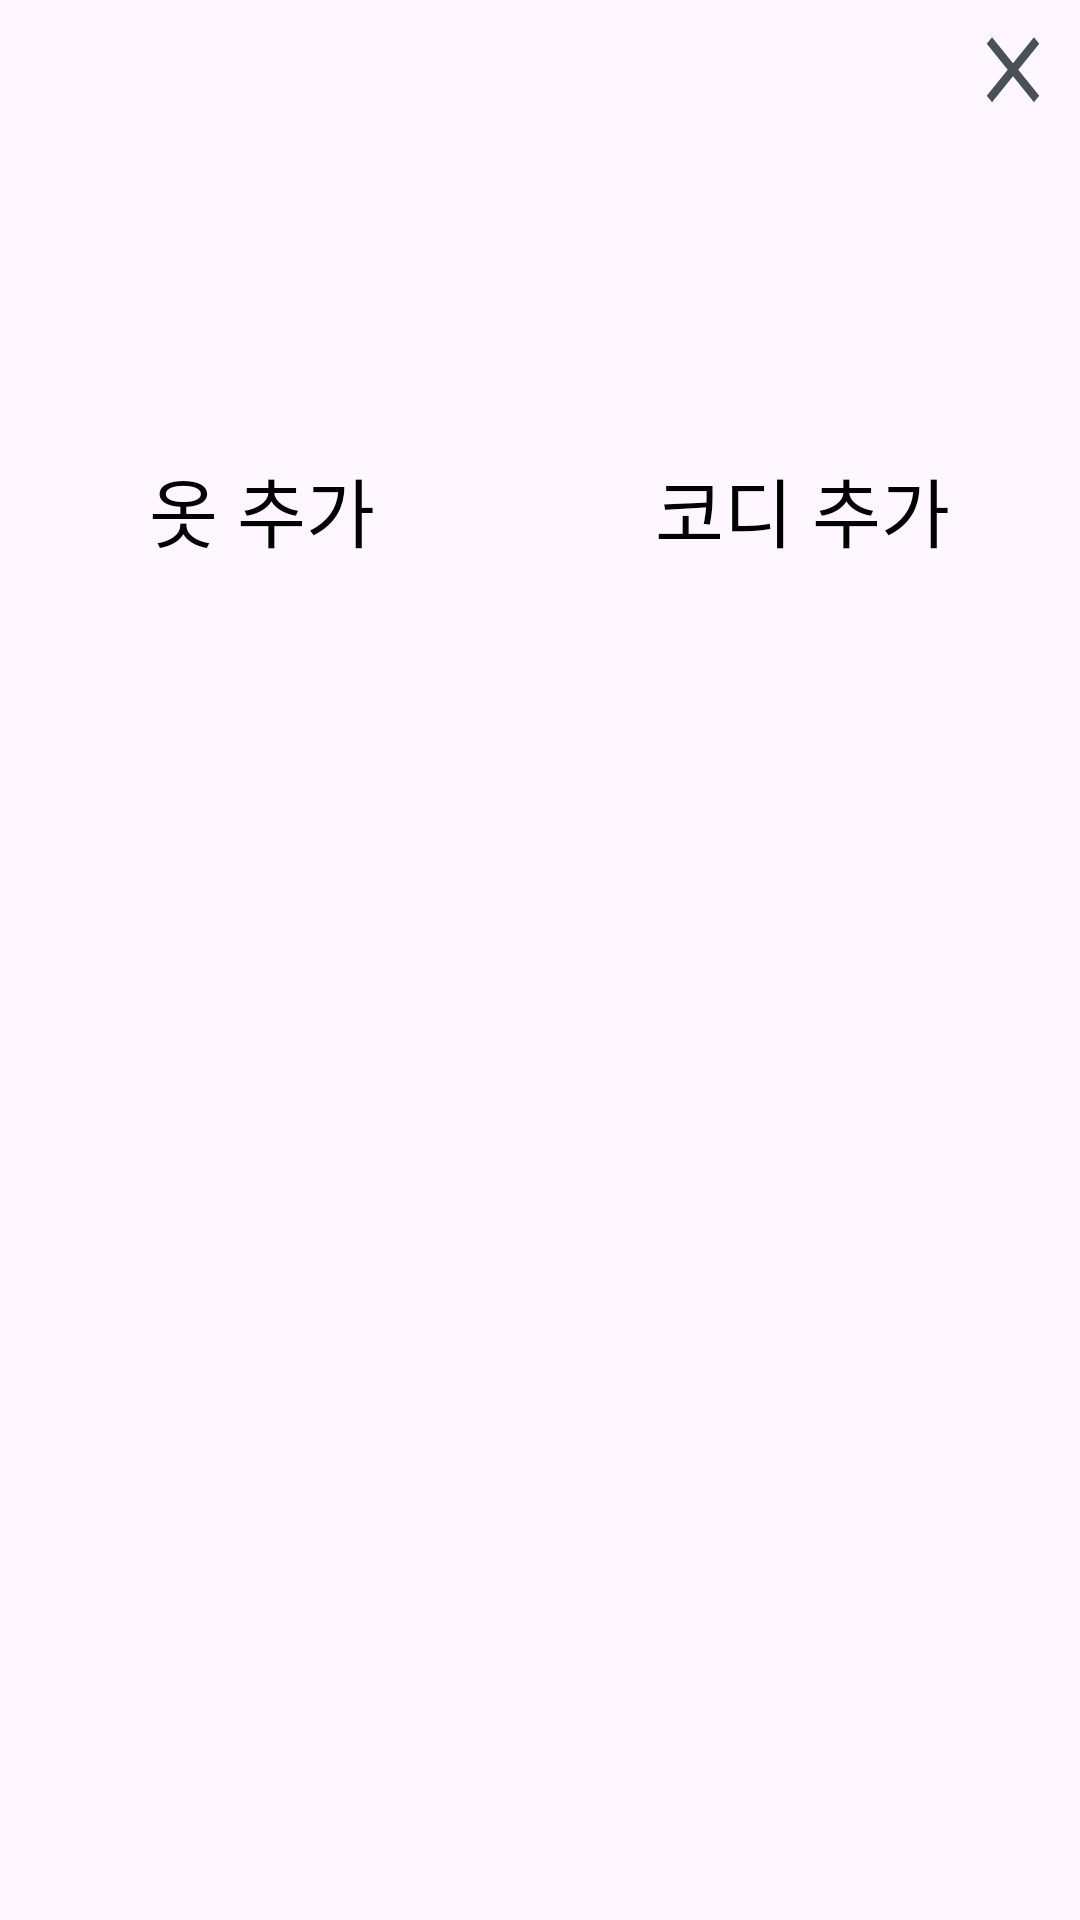

Named icons in this screenshot (1080px×1920px) and their centers, [x,y]:
xmark: [1013,69]
